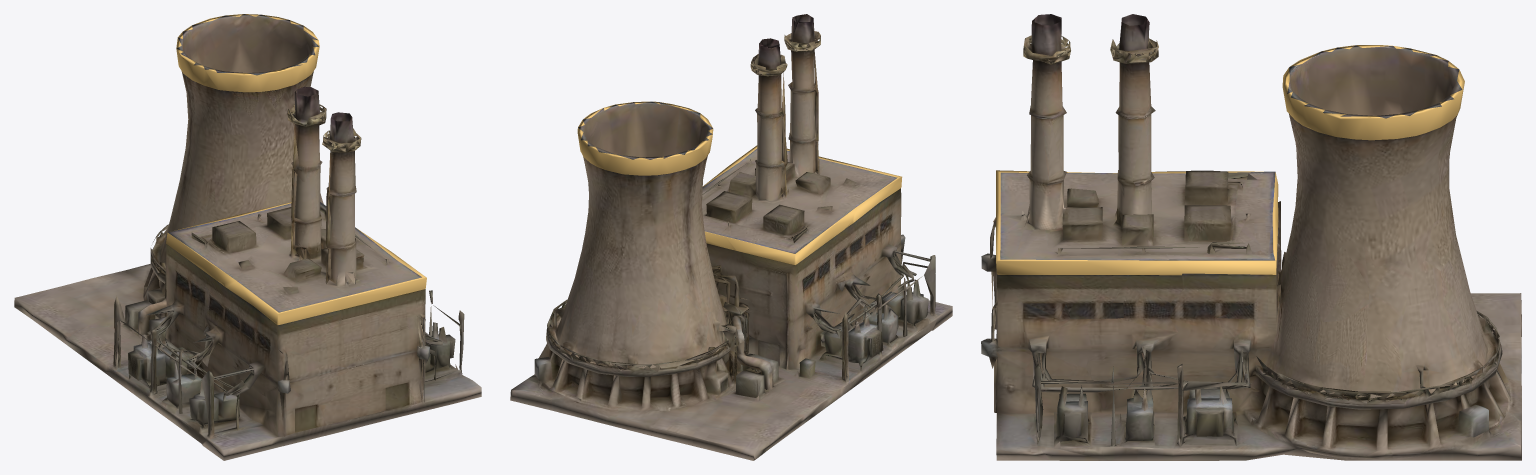
File: power_plant.glb
3 renders of one model, left to right at view 1: azimuth 30°, elevation 25°; view 2: azimuth 150°, elevation 25°; view 3: azimuth 270°, elevation 25°, orthographic. The views are drawn at different scales.
Parts seen in each view (by area): view 1: Model; view 2: Model; view 3: Model.
Boxes of the visible parts, left/top/right/bottom form: Model: left=14, top=14, right=481, bottom=460; Model: left=510, top=14, right=952, bottom=460; Model: left=981, top=14, right=1521, bottom=460.
Size of the model in its own units: 1.49 by 1.51 by 2.
2 materials, 1 textured.
